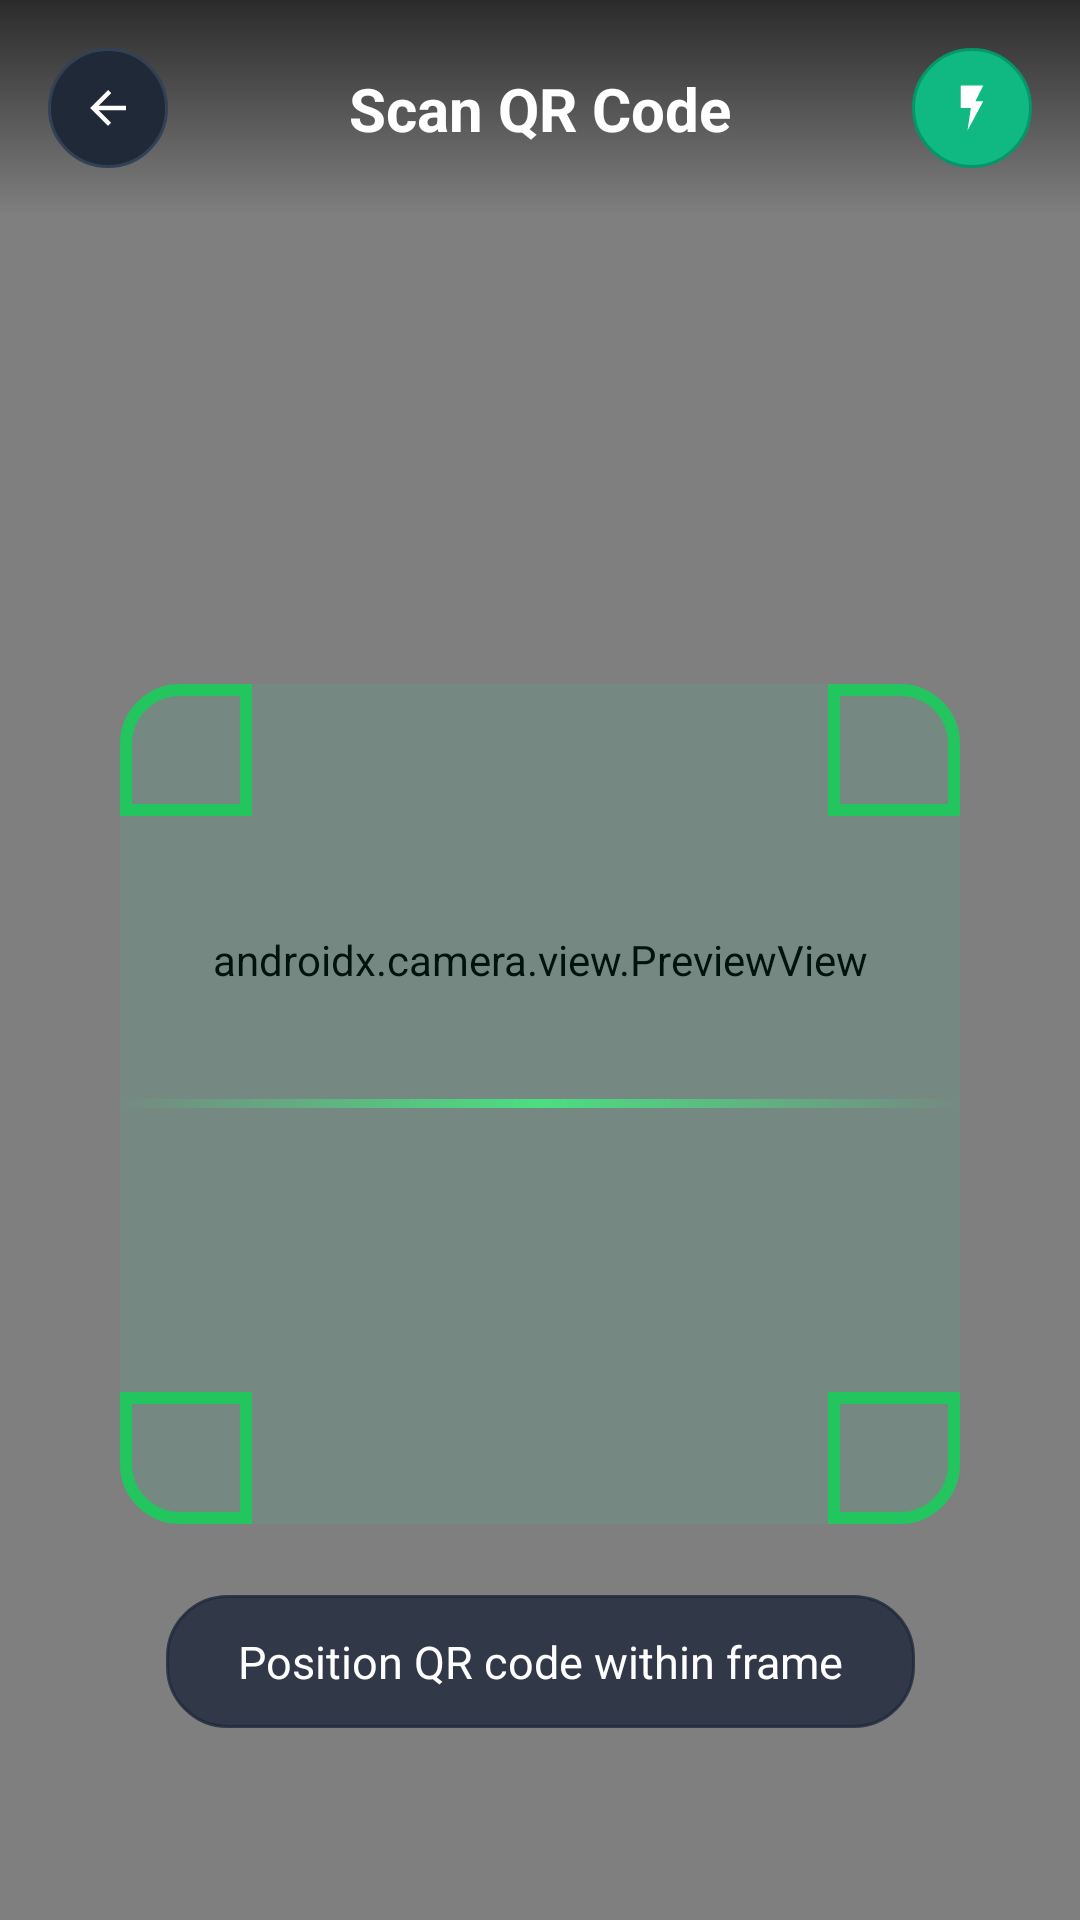

Icon click points for this 1080px×1920px phone screenshot, format (x=x, y=y):
flash: (x=972, y=108)
